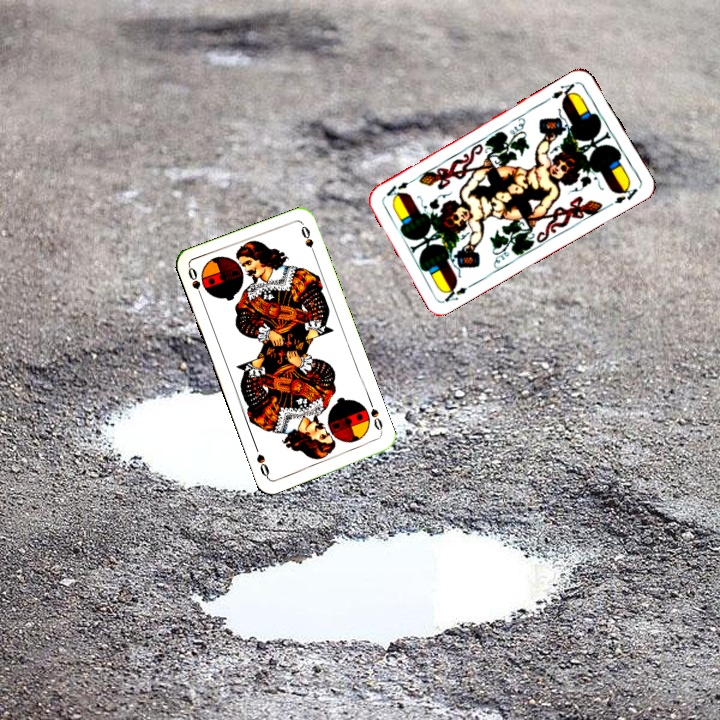EA: (542, 77, 580, 104), (440, 279, 478, 305)
SO: (184, 263, 205, 303), (366, 405, 386, 437)
